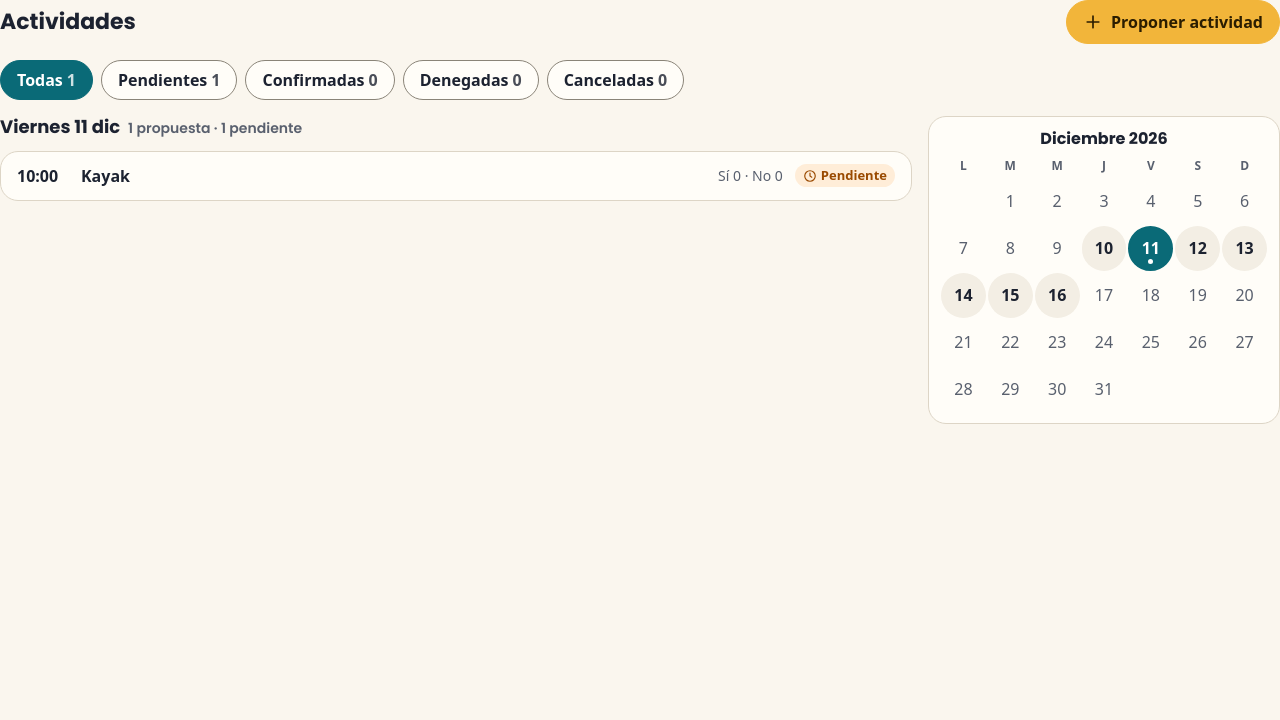
ActividadesVista › RN-R3: si al confirmar choca con otra confirmada, muestra con cuál
Click the button with class "renglon__fila": (38, 176) [1,152,911,200]
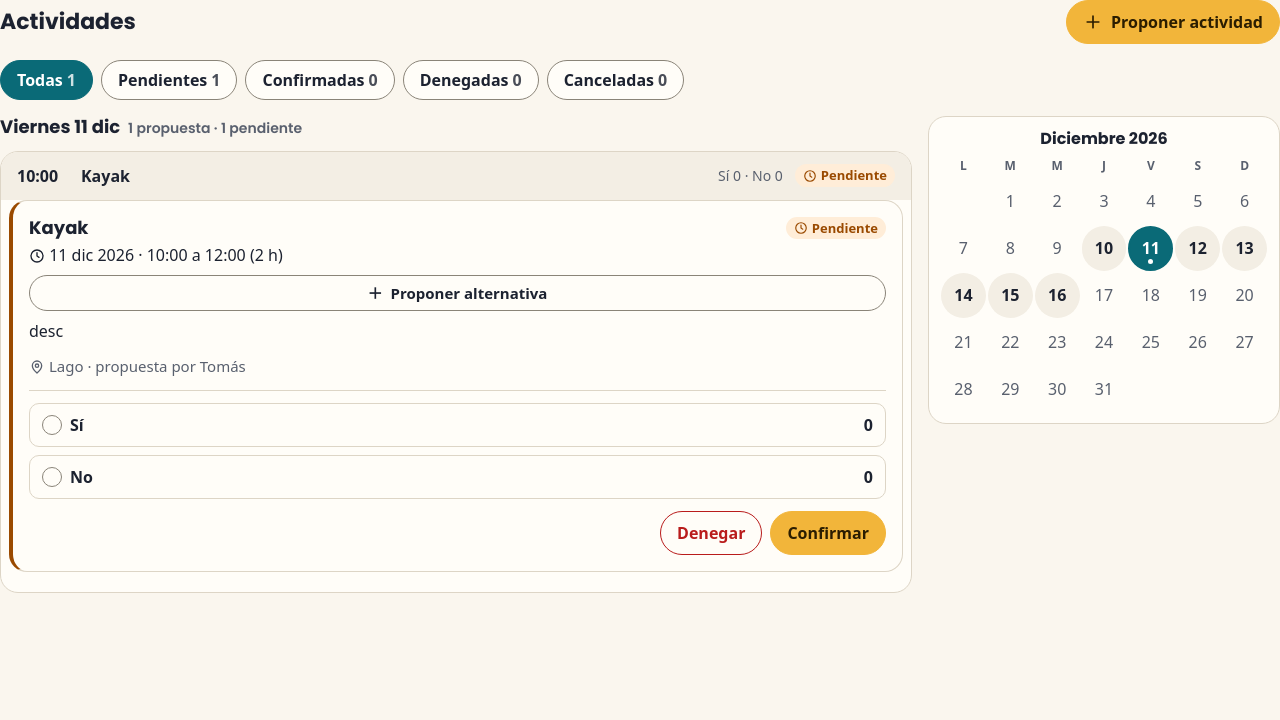
Click the button "Confirmar": (828, 532) [770,510,886,554]
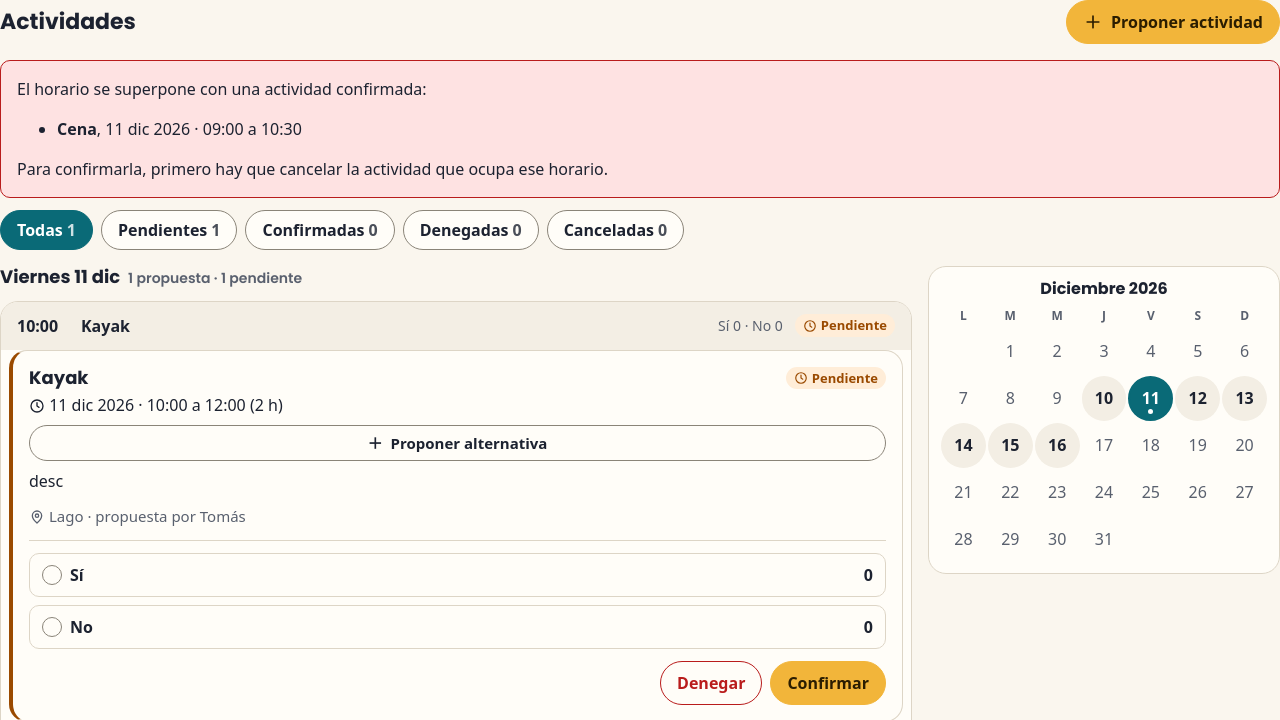
Result: the message with class "aviso-superposicion" shows "Cena, 11 dic 2026 · 09:00 a 10:30" at [0,60,1279,198]
Result: the message with class "aviso-superposicion" shows "primero hay que cancelar" at [17,158,608,180]
